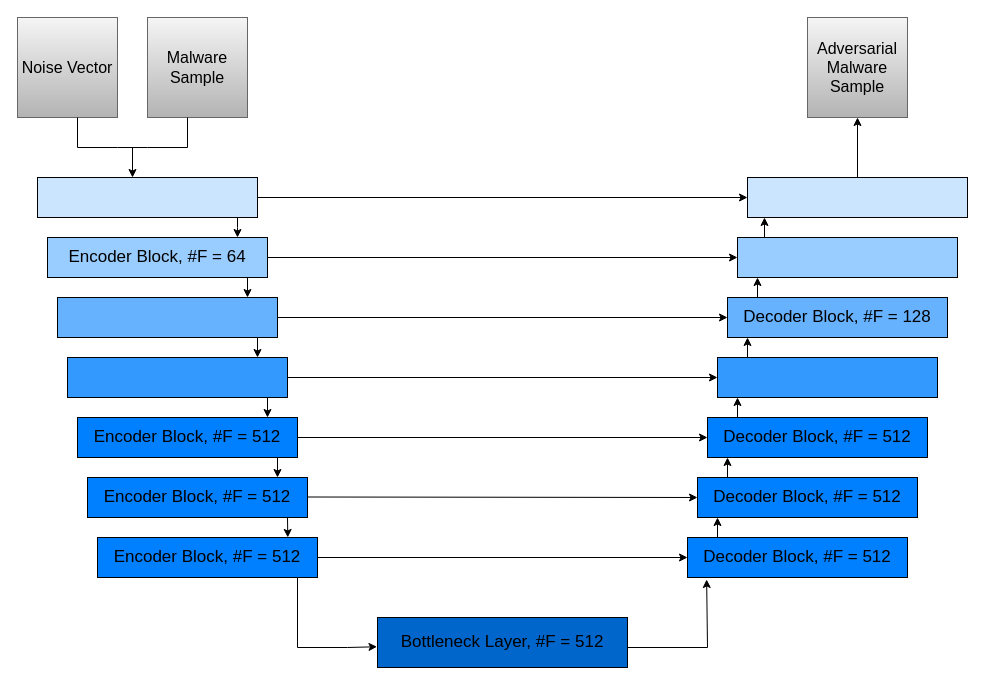
The diagram is 985 pixels wide and 685 high, and some of its shapes have lost their labels. The shapes that lost their labels are listed below. From the top down, each one's centre as x and y in pixels, then its label:
At point 147,197: "Input Layer".
At point 857,197: "Output Layer".
At point 847,257: "Decoder Block, #F = 64".
At point 167,317: "Encoder Block, #F = 128".
At point 177,377: "Encoder Block, #F = 256".
At point 827,377: "Decoder Block, #F = 256".
